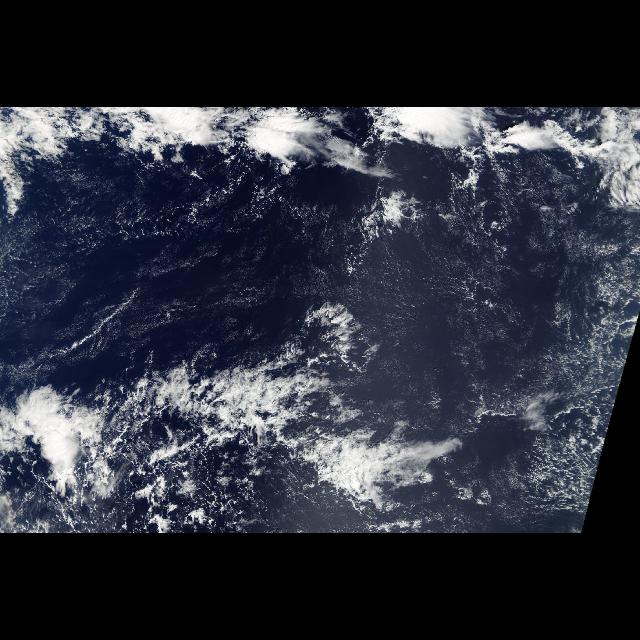Gravel: (90, 450, 264, 532)
Sugar: (3, 174, 625, 511)
